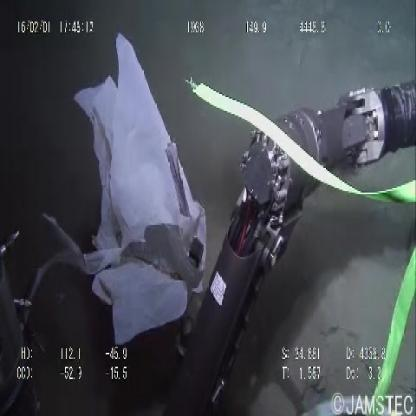Rov: (173, 71, 416, 407)
Rác: (68, 25, 208, 346)
